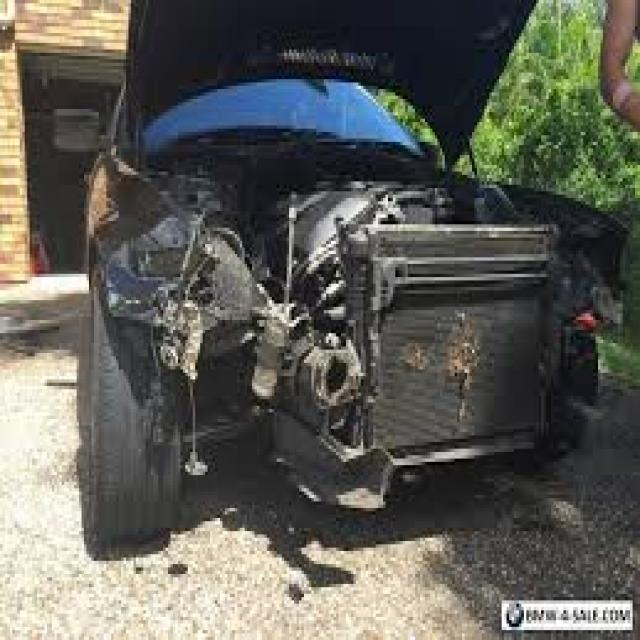severe: (83, 130, 586, 465)
